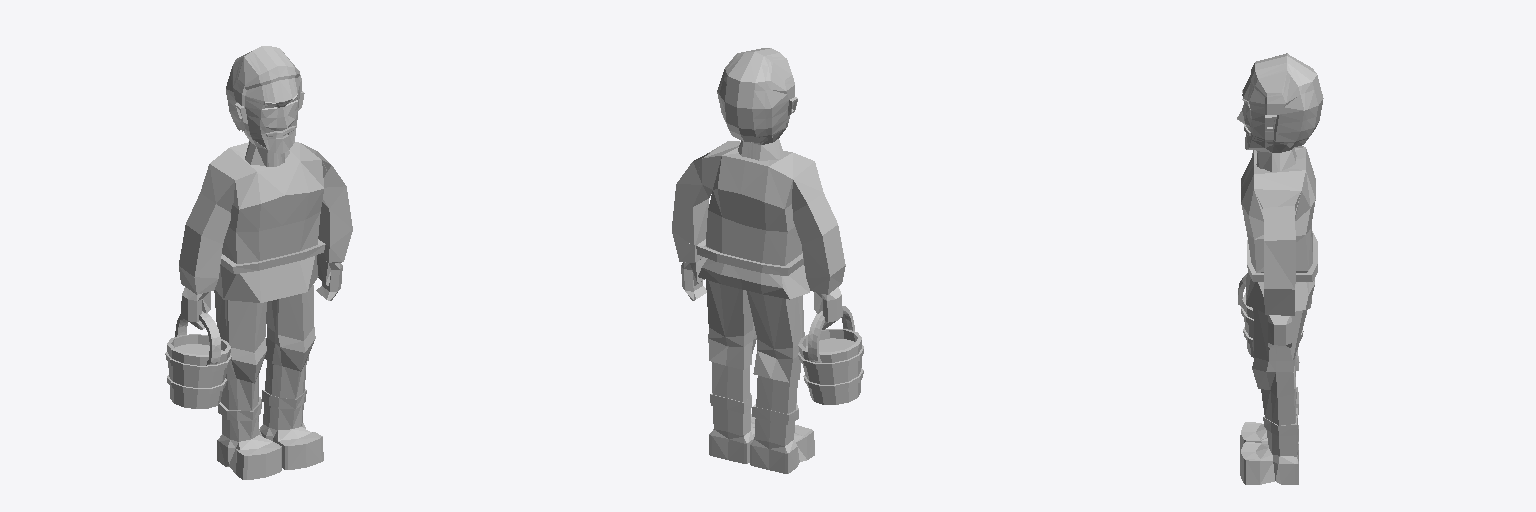
Rendered from aldeano.obj.
3 views of the same model, side by side, from view 1: azimuth 30°, elevation 25°; view 2: azimuth 150°, elevation 25°; view 3: azimuth 270°, elevation 25° (orthographic).
Parts seen in each view (by area): view 1: Torso_Cube; view 2: Torso_Cube; view 3: Torso_Cube.
Boxes of the visible parts, <box> form: Torso_Cube: <box>165,46,352,479</box>; Torso_Cube: <box>672,48,863,473</box>; Torso_Cube: <box>1237,53,1323,484</box>.
Bounding box in the file's own units: 1.3 × 2.86 × 0.5515.